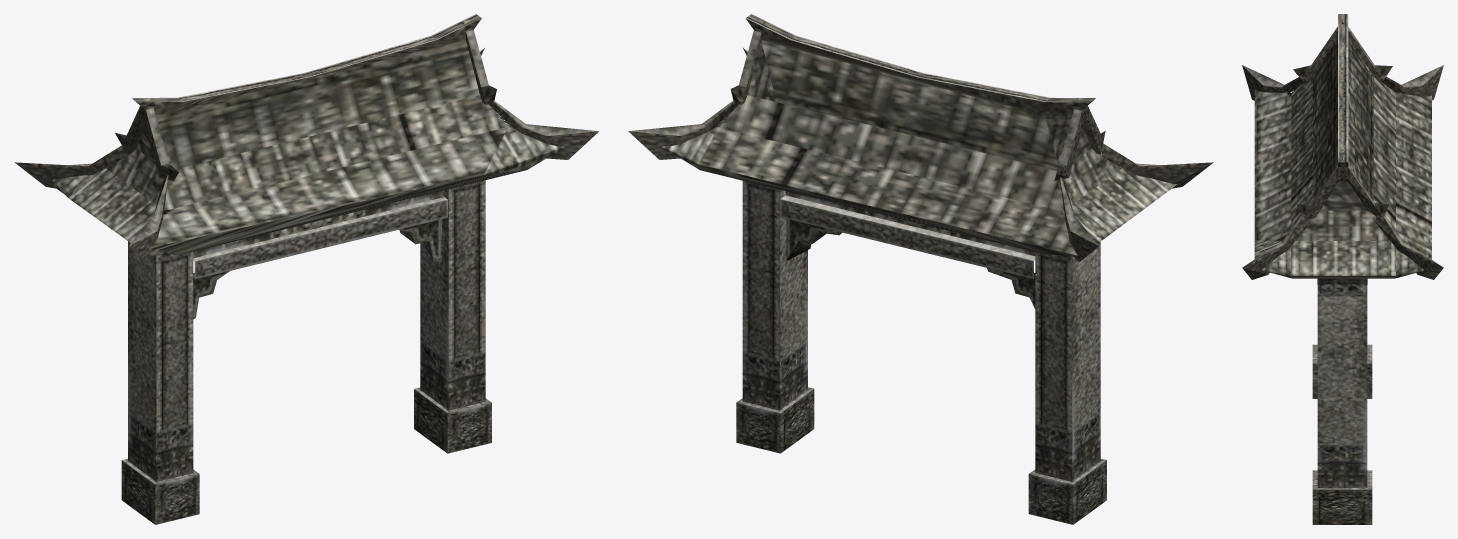
The model's file is general_obj_stonedoor_lod_01.glb.
3 renders of one model, left to right at view 1: azimuth 30°, elevation 25°; view 2: azimuth 150°, elevation 25°; view 3: azimuth 270°, elevation 25°, orthographic. The views are drawn at different scales.
Parts seen in each view (by area): view 1: Object05; view 2: Object05; view 3: Object05.
Boxes of the visible parts, bbox=[...] form: Object05: bbox=[15, 14, 598, 524]; Object05: bbox=[628, 14, 1213, 524]; Object05: bbox=[1242, 14, 1443, 524].
Size of the model in its own units: 11.16 by 9.36 by 4.7.
1 material, 1 textured.
